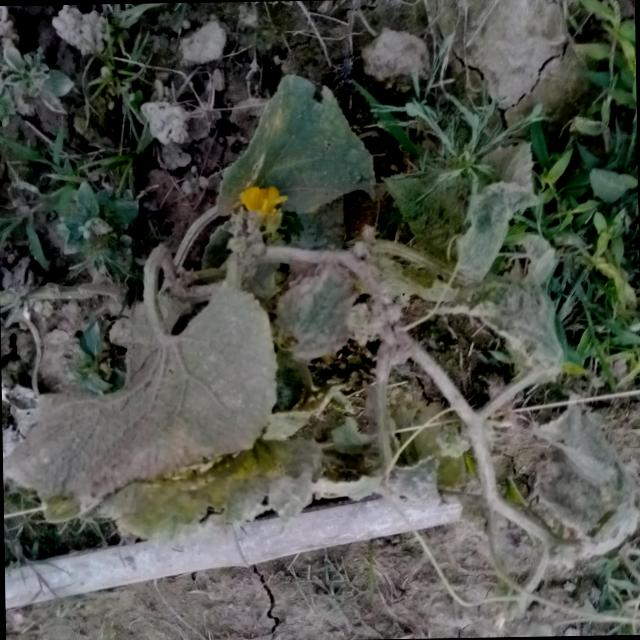cucumber_bacterial: (0, 282, 295, 499), (466, 454, 640, 630), (192, 70, 390, 208), (447, 265, 598, 438), (428, 126, 564, 296), (86, 464, 330, 541), (274, 279, 409, 392)
